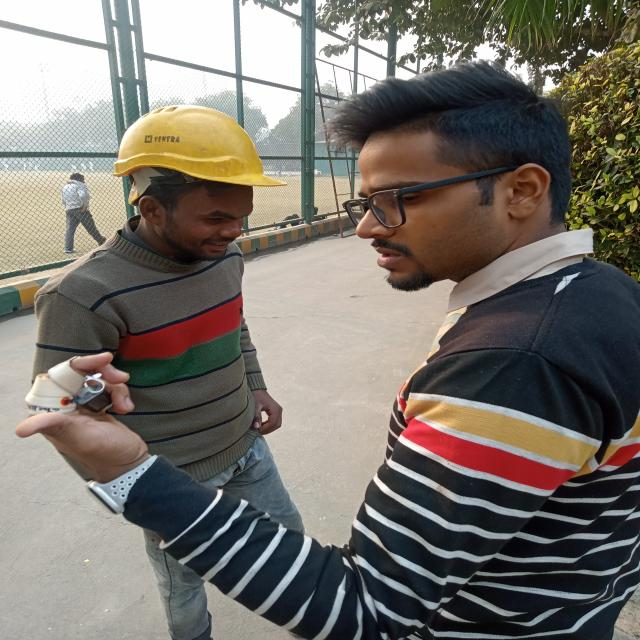no jacket: (35, 107, 308, 640)
unsafe: (261, 66, 640, 640), (58, 171, 107, 254)
